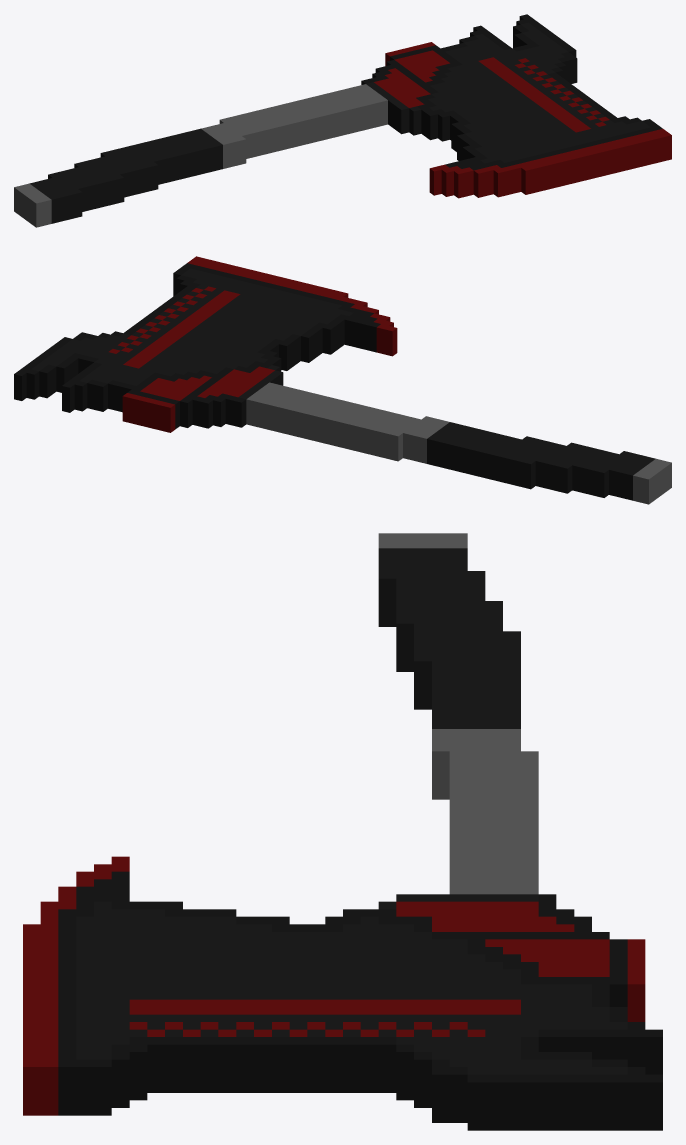
File: AXE new.obj
3 renders of one model, top to bottom at view 1: azimuth 30°, elevation 25°; view 2: azimuth 150°, elevation 25°; view 3: azimuth 270°, elevation 25°, orthographic. The views are drawn at different scales.
Bounding box in the file's own units: 7.3 × 0.3 × 3.6.
